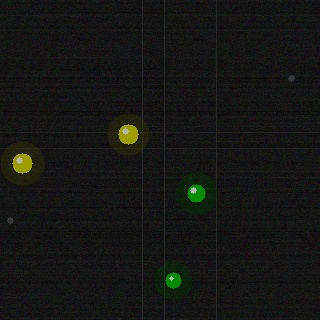green_normal: (185, 182, 207, 204), (163, 270, 183, 290)
yellow_warning: (116, 122, 140, 146), (10, 151, 34, 175)
